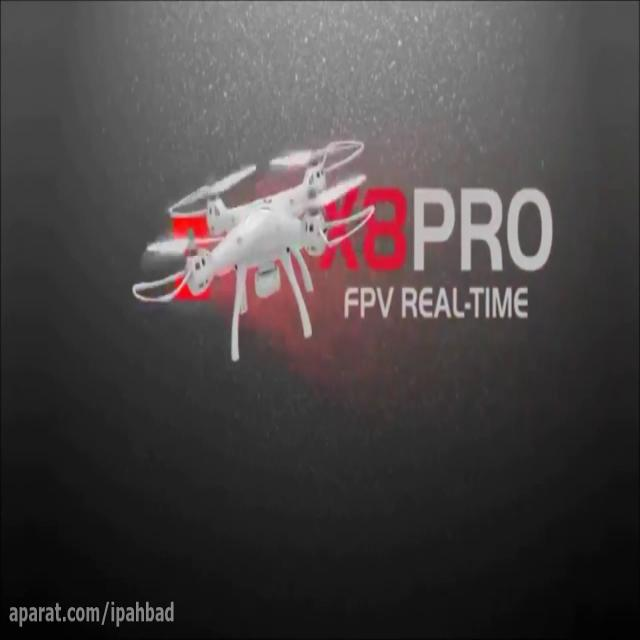drone: (131, 138, 375, 364)
